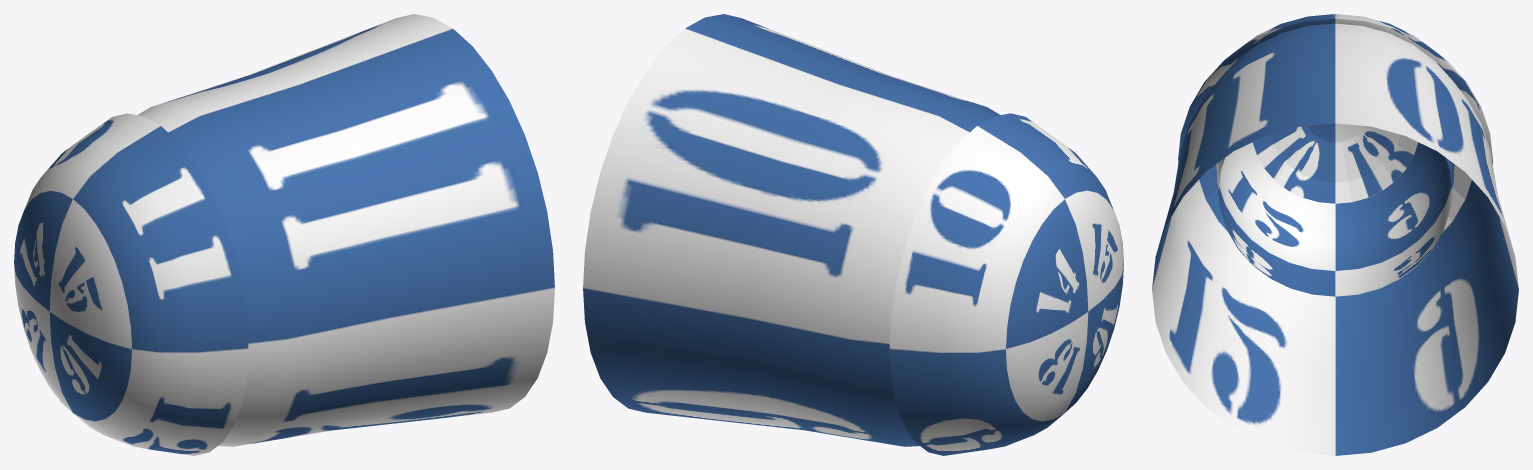
The model's file is Enmu_Wind4.fbx.
3 views of the same model, side by side, from view 1: azimuth 30°, elevation 25°; view 2: azimuth 150°, elevation 25°; view 3: azimuth 270°, elevation 25° (orthographic). The views are drawn at different scales.
Visible parts, largest first — view 1: SM_e_Plc_P1011_Wind005; view 2: SM_e_Plc_P1011_Wind005; view 3: SM_e_Plc_P1011_Wind005.
Part boxes in pixels (<box>): SM_e_Plc_P1011_Wind005: <box>14,14,554,455</box>; SM_e_Plc_P1011_Wind005: <box>583,14,1123,455</box>; SM_e_Plc_P1011_Wind005: <box>1152,14,1518,455</box>.
Bounding box in the file's own units: 281 × 247 × 247.
